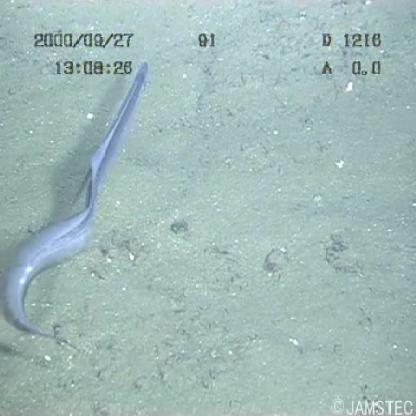Bio: (0, 54, 154, 355)
